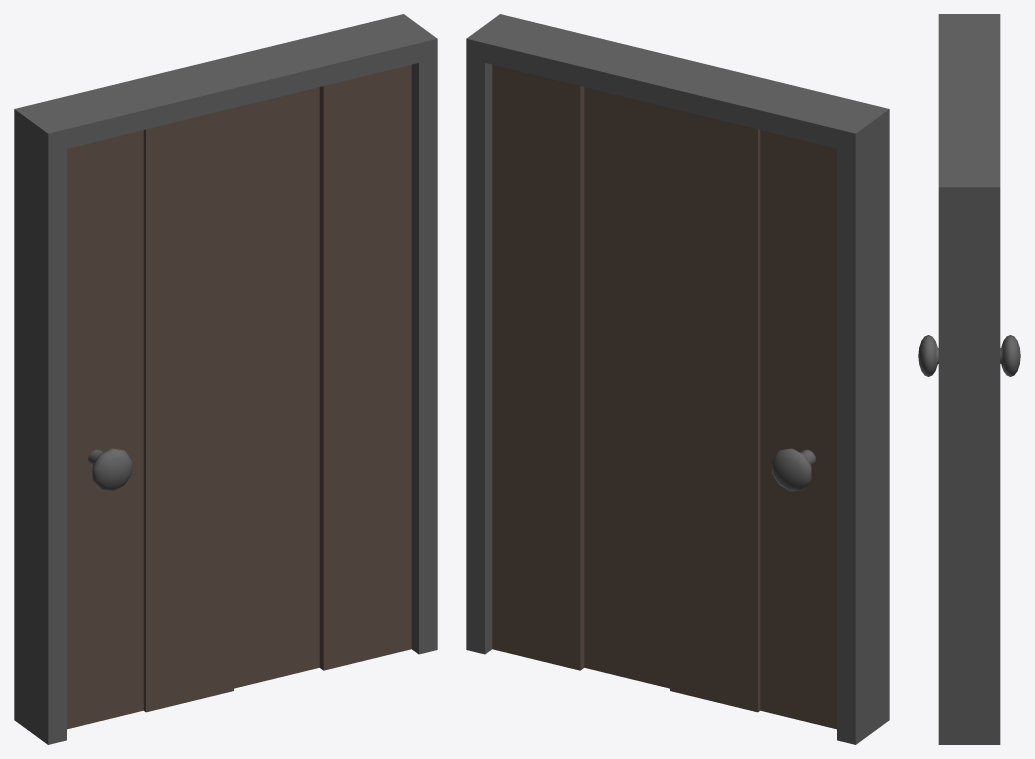
The model's file is Door-Shut.fbx.
The picture shows the model from 3 angles, left to right: view 1: azimuth 30°, elevation 25°; view 2: azimuth 150°, elevation 25°; view 3: azimuth 270°, elevation 25°; orthographic projection. The views are drawn at different scales.
Parts seen in each view (by area): view 1: Shut; view 2: Shut; view 3: Shut.
Part boxes in pixels (x1=…): Shut: x1=14, y1=14, x2=437, y2=744; Shut: x1=466, y1=14, x2=889, y2=744; Shut: x1=918, y1=14, x2=1020, y2=744.
Size of the model in its own units: 200 by 49.91 by 300.
